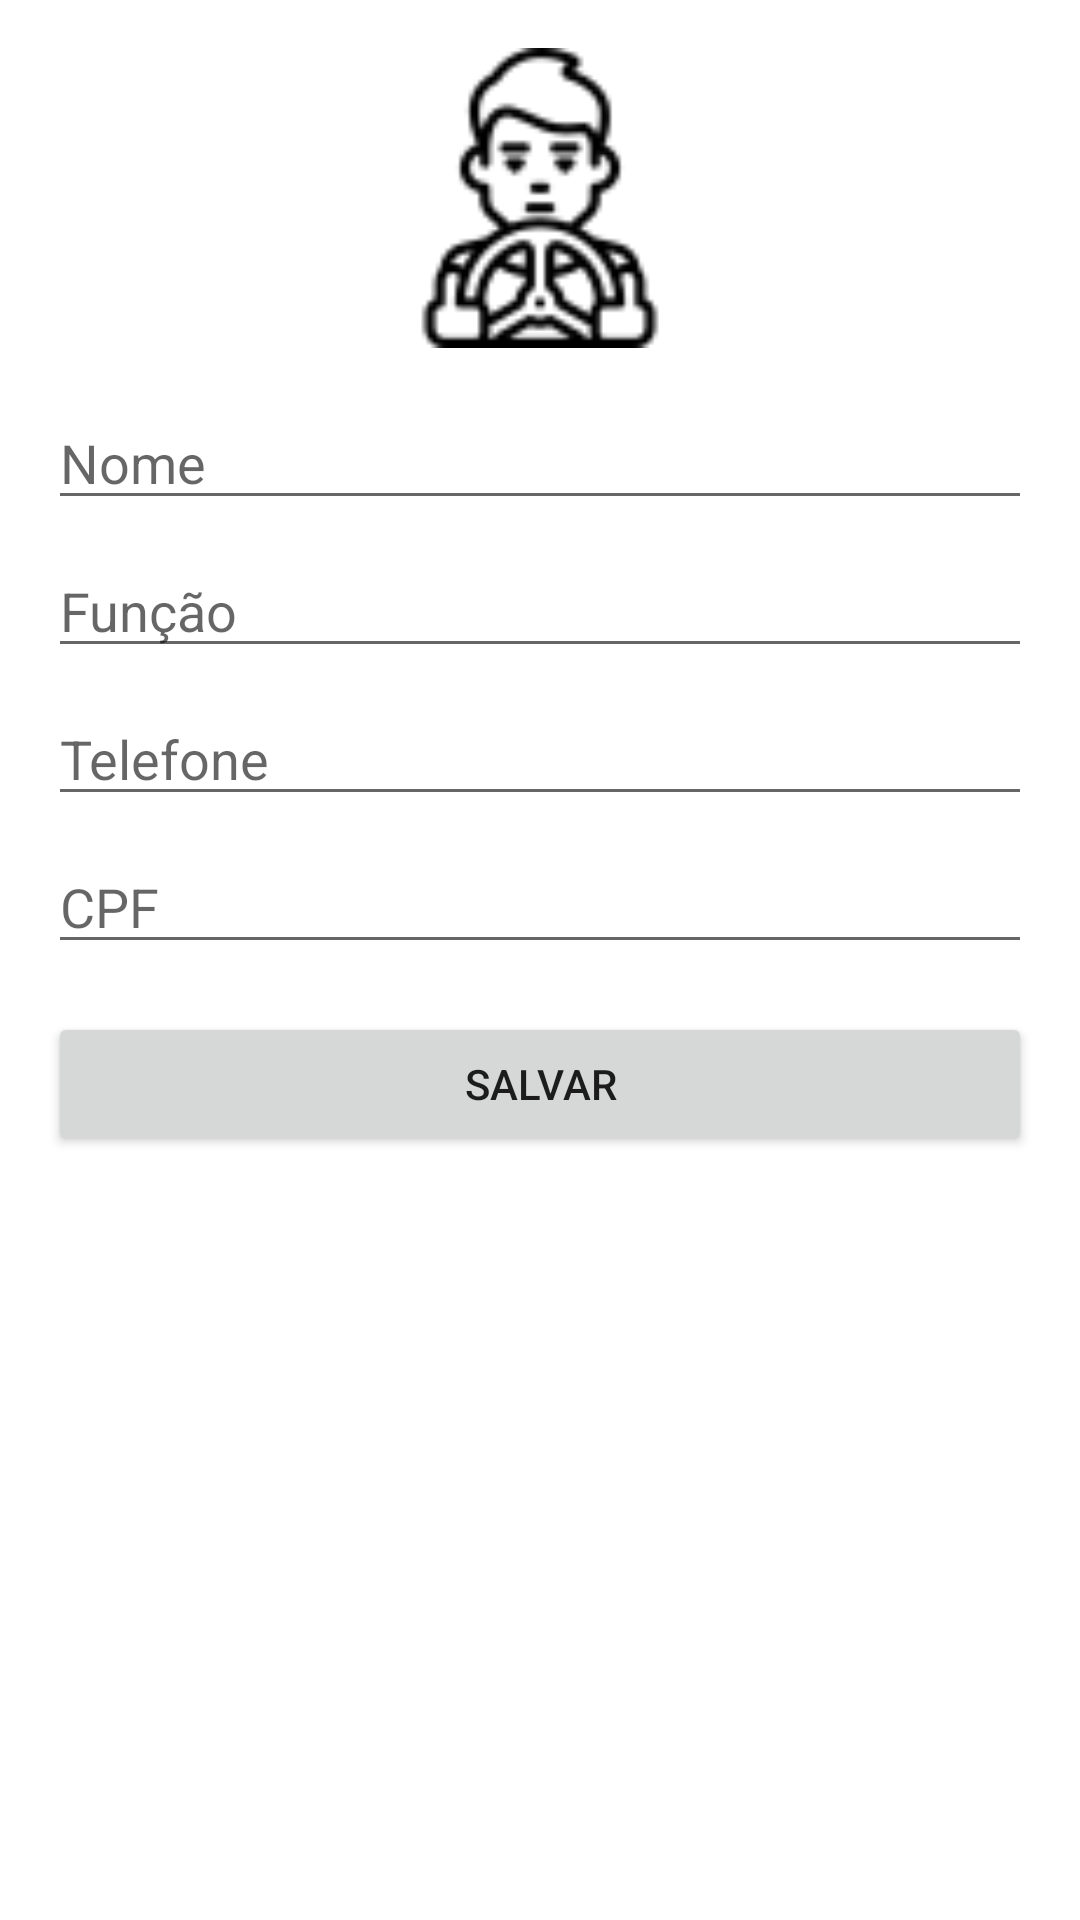

Named icons in this screenshot (1080*1920) and their bounding boxes, bbox=[x1, y1, x2, y2]:
Imagem do Tripulante: bbox=[421, 48, 659, 348]
